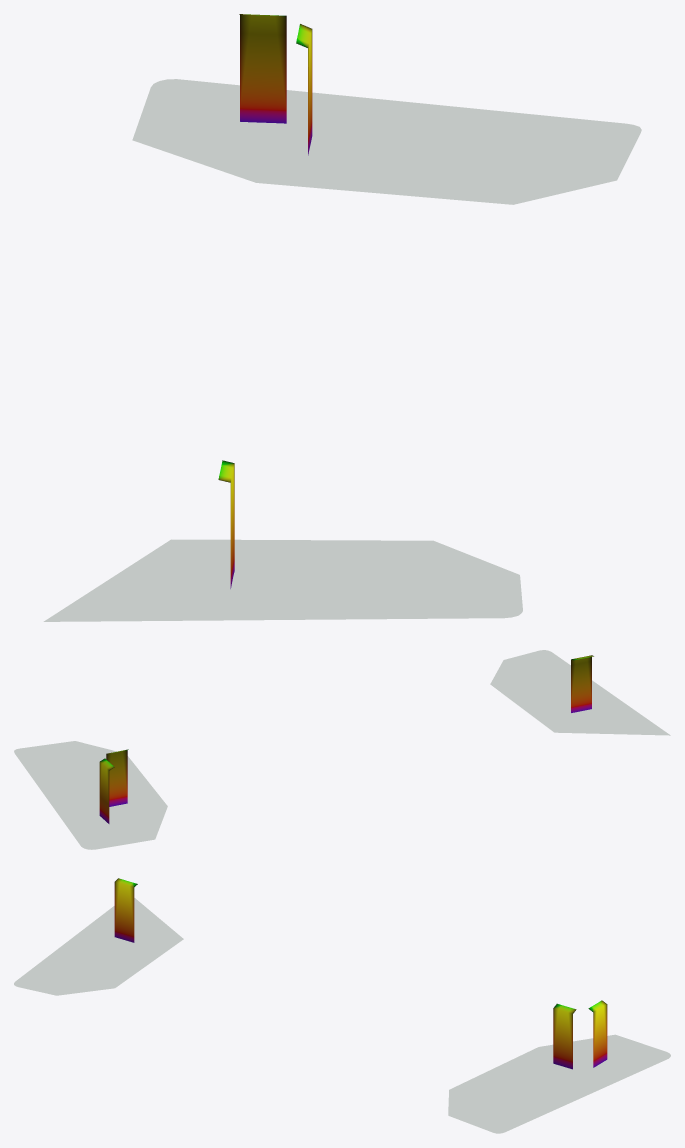
3 renders of one model, top to bottom at view 1: azimuth 30°, elevation 25°; view 2: azimuth 150°, elevation 25°; view 3: azimuth 270°, elevation 25°, orthographic. The views are drawn at different scales.
Visible parts, largest first — view 1: G:\FFXIV-MapTools\exports\w1t1\bg\ffxiv\wil_w1\twn\common\bg (×2); view 2: G:\FFXIV-MapTools\exports\w1t1\bg\ffxiv\wil_w1\twn\common\bg (×2); view 3: G:\FFXIV-MapTools\exports\w1t1\bg\ffxiv\wil_w1\twn\common\bg (×2).
Part boxes in pixels (x1,y1,x2,y2): G:\FFXIV-MapTools\exports\w1t1\bg\ffxiv\wil_w1\twn\common\bg (×2): (43, 14, 641, 621); G:\FFXIV-MapTools\exports\w1t1\bg\ffxiv\wil_w1\twn\common\bg (×2): (14, 650, 670, 849); G:\FFXIV-MapTools\exports\w1t1\bg\ffxiv\wil_w1\twn\common\bg (×2): (14, 878, 670, 1133).
Bounding box in the file's own units: 32.56 × 3.72 × 37.67.
